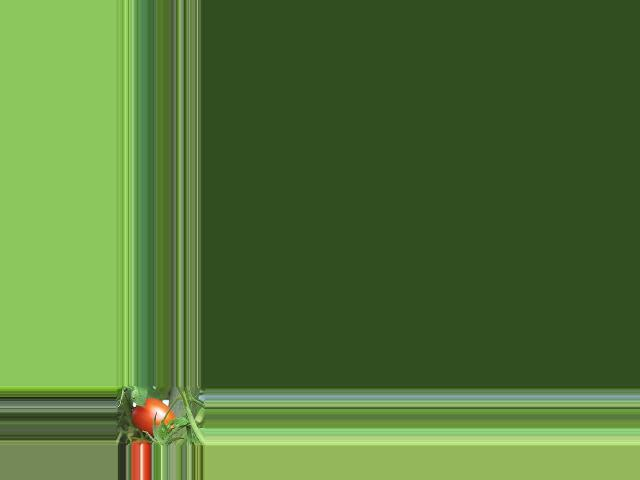tomato: (131, 398, 174, 435)
